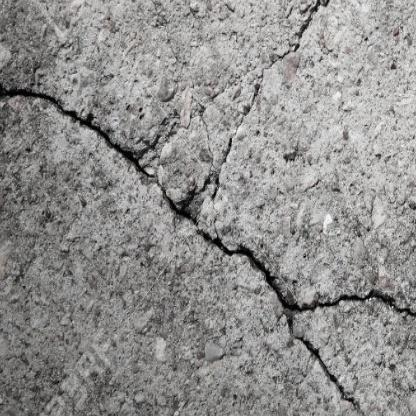Cracks: (0, 0, 416, 416), (138, 0, 160, 13)
